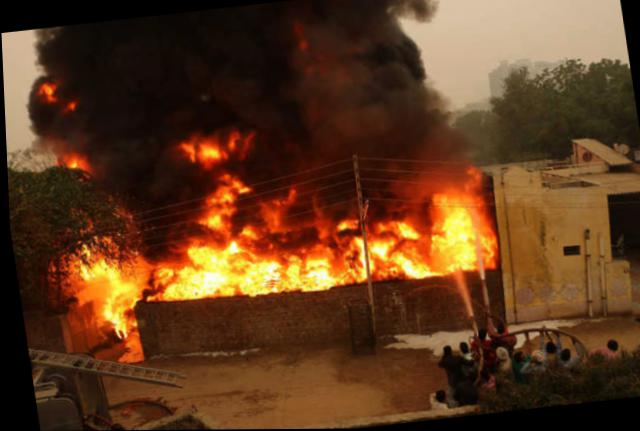fire: (66, 212, 500, 311), (185, 178, 256, 233), (424, 179, 493, 221), (95, 303, 137, 347), (192, 137, 228, 169), (34, 80, 57, 107), (333, 218, 355, 230), (62, 99, 75, 111)
smoke: (233, 0, 468, 173), (74, 7, 249, 143), (302, 147, 484, 205), (102, 140, 187, 233), (20, 110, 92, 146), (26, 27, 60, 81), (53, 27, 79, 88)
